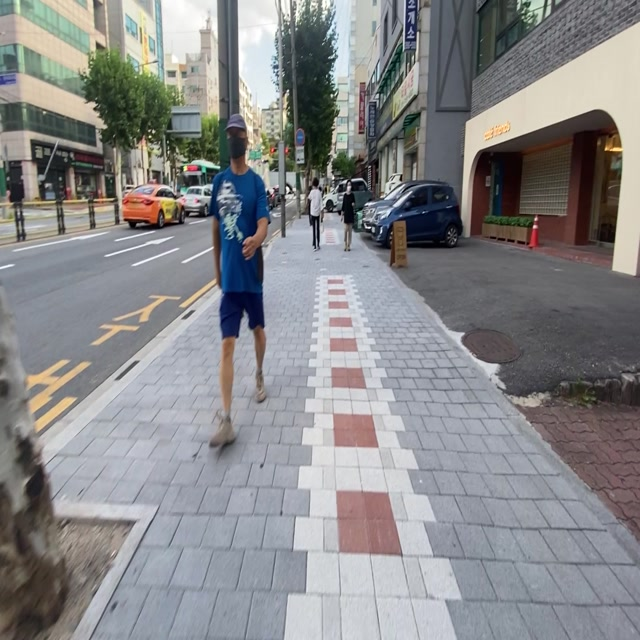Pedestrian: (210, 114, 269, 443), (7, 171, 25, 239)
Vehicle: (365, 181, 461, 246), (363, 182, 417, 229), (122, 185, 183, 226), (323, 181, 346, 211), (324, 180, 346, 211), (187, 186, 210, 215)
